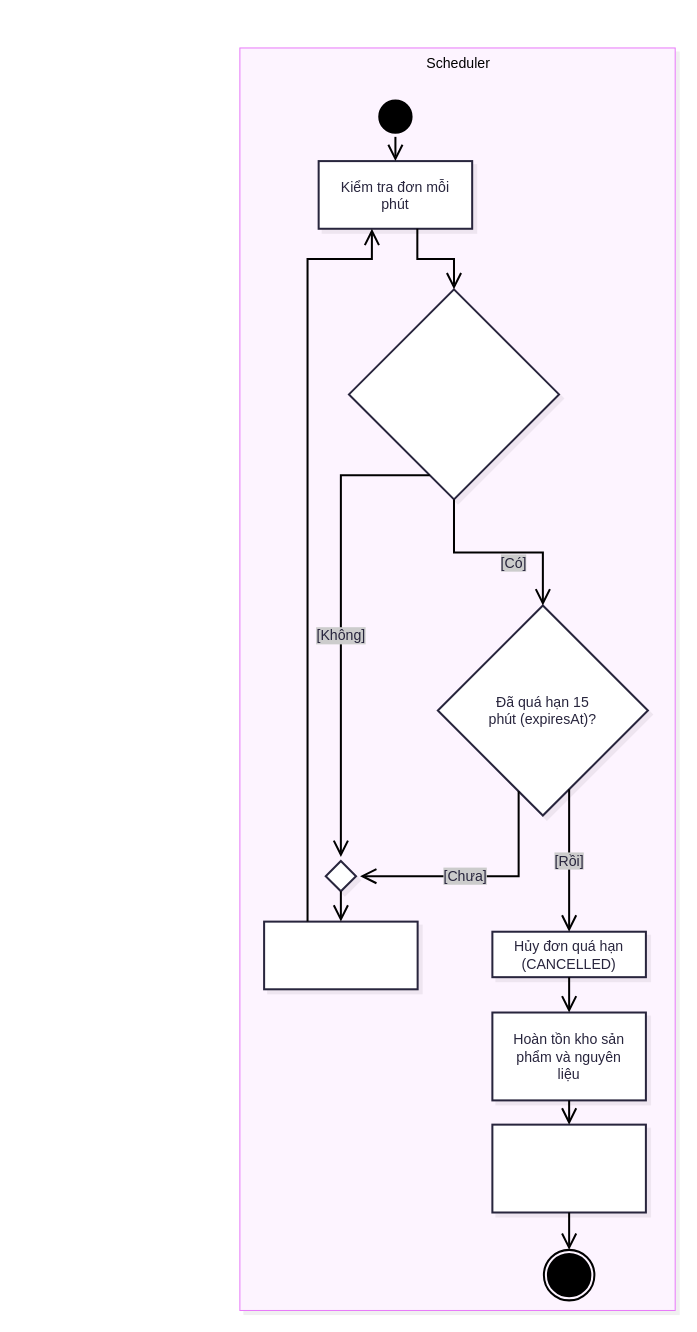
Some shapes in this 697 by 1332 pixel diagram are drawn without their labels. The shapes that lost their labels are listed below. From the top down, each one's centre as x and y in pixels, then its label:
At [455,396]: "Đơn đang PENDING? (không gồm PAYMENT_FAILED)".
At [342,957]: "Chờ lần kiểm tra tiếp theo".
At [570,1170]: "Hoàn lượt dùng mã giảm giá nếu có".
